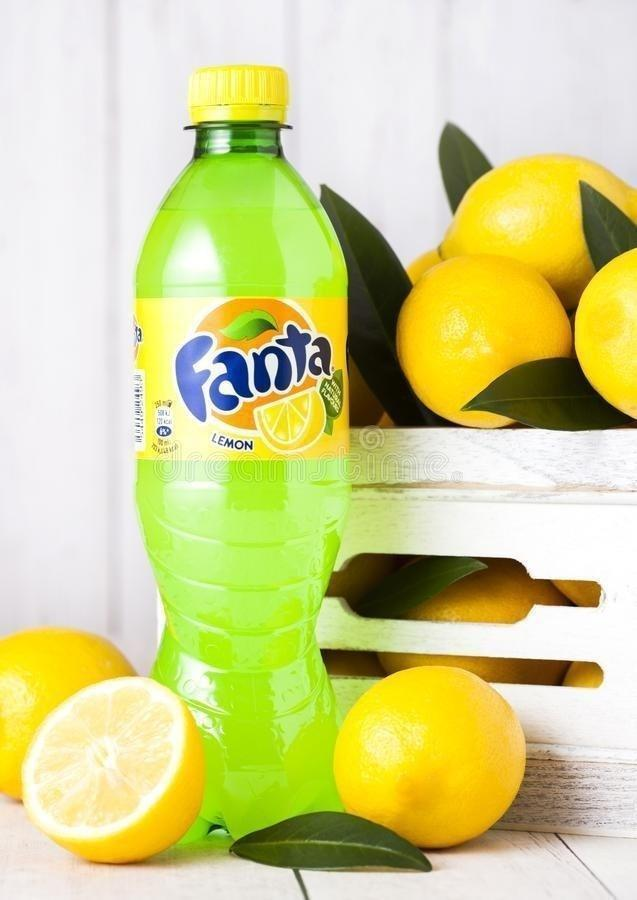bottle-plastic: (127, 61, 356, 769)
